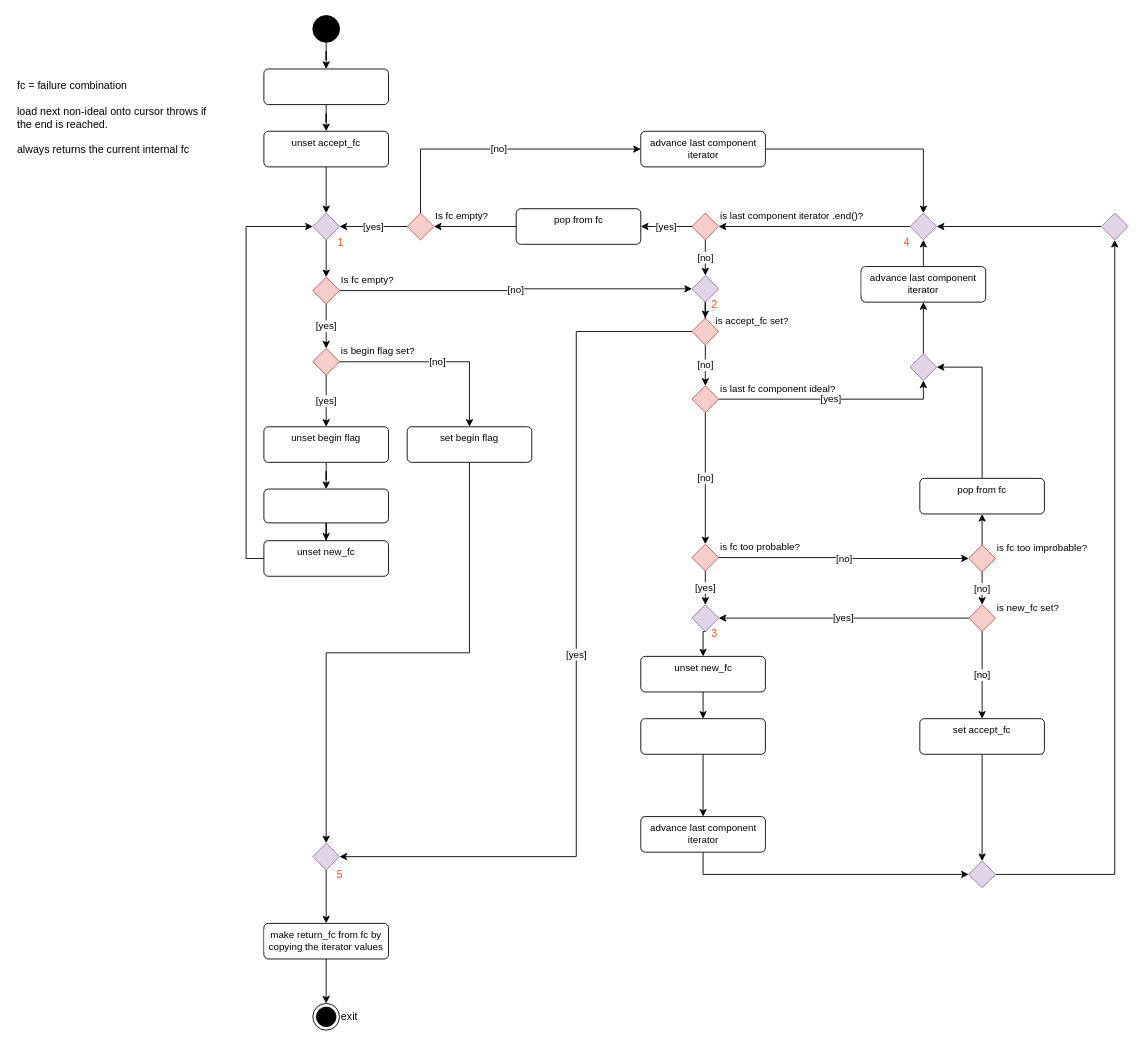
This 1144x1046 diagram has some shape labels left out. Each missing label, with the box of its shape:
duplicate last fc iterator by pushing new: (640, 718, 765, 754)
push iterator of the smallest component onto the fc: (263, 488, 388, 523)
set new_fc: (263, 68, 388, 105)
